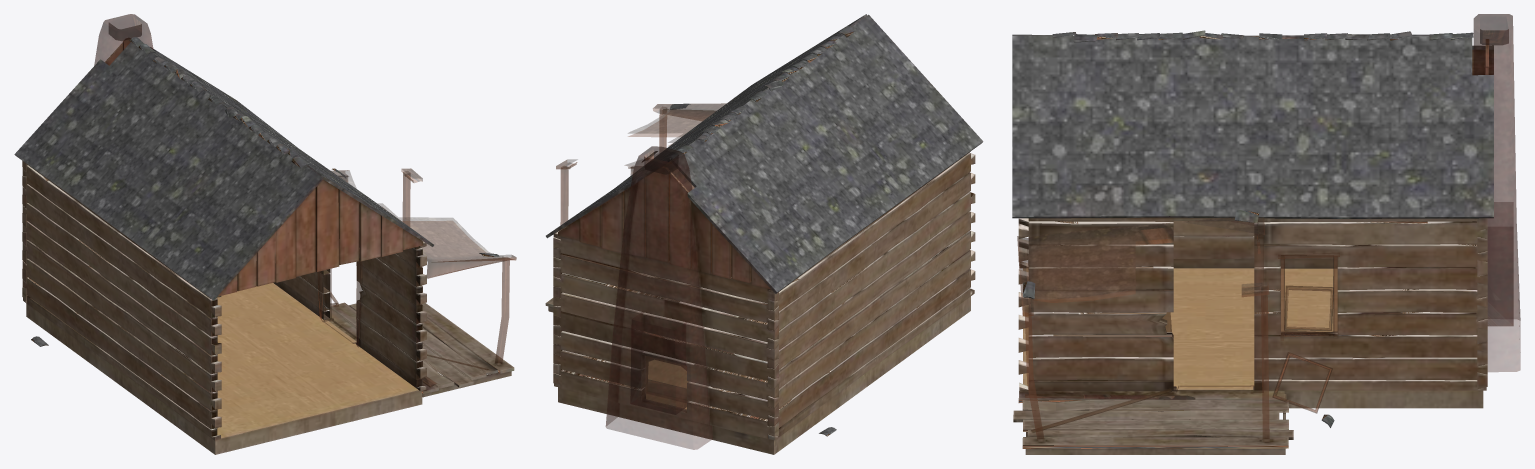
Rendered from ruined-cabin.access-v5.lod0.glb.
3 views of the same model, side by side, from view 1: azimuth 30°, elevation 25°; view 2: azimuth 150°, elevation 25°; view 3: azimuth 270°, elevation 25° (orthographic). The views are drawn at different scales.
Parts seen in each view (by area): view 1: Foundation.003_2.001_0, WallShortRight.004_1.001_0, OutRoof.003_3.001_0; view 2: WallShortRight.004_1.001_0, Foundation.003_2.001_0, OutRoof.003_3.001_0; view 3: Foundation.003_2.001_0, WallShortRight.004_1.001_0, OutRoof.003_3.001_0.
Boxes of the visible parts, bbox=[...] form: Foundation.003_2.001_0: bbox=[14, 37, 514, 454]; WallShortRight.004_1.001_0: bbox=[22, 38, 426, 440]; OutRoof.003_3.001_0: bbox=[94, 14, 516, 387]; WallShortRight.004_1.001_0: bbox=[553, 151, 975, 440]; Foundation.003_2.001_0: bbox=[545, 14, 983, 454]; OutRoof.003_3.001_0: bbox=[556, 103, 726, 449]; Foundation.003_2.001_0: bbox=[1012, 30, 1493, 454]; WallShortRight.004_1.001_0: bbox=[1018, 39, 1489, 391]; OutRoof.003_3.001_0: bbox=[1017, 14, 1520, 441].
Size of the model in its own units: 5.37 by 4.23 by 5.98.
Materials: 3 (3 with a texture image).
